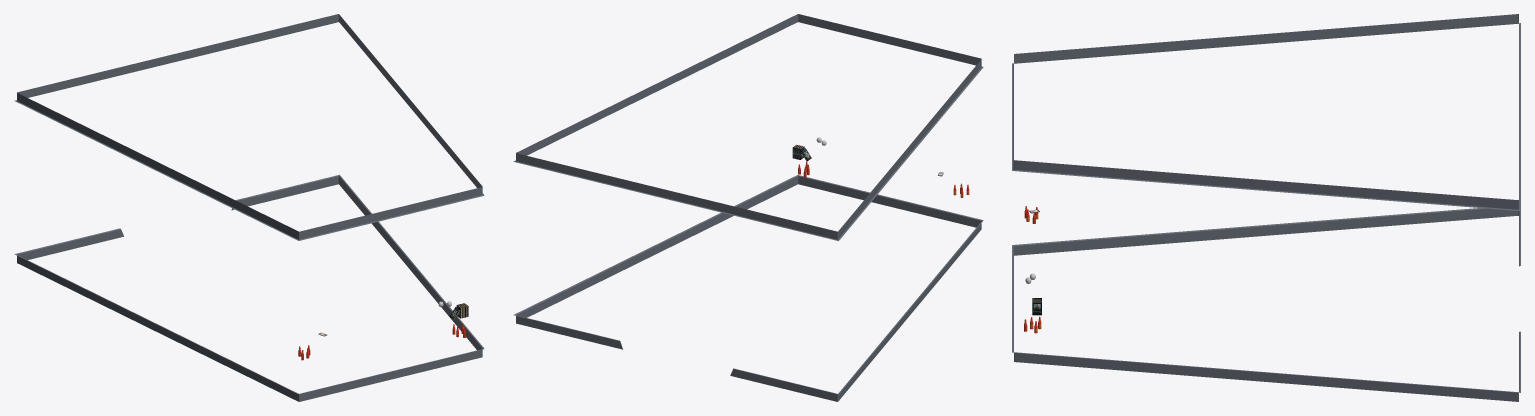
Rendered from vladikavkaz prison office update.fbx.
The picture shows the model from 3 angles, left to right: view 1: azimuth 30°, elevation 25°; view 2: azimuth 150°, elevation 25°; view 3: azimuth 270°, elevation 25°; orthographic projection. The views are drawn at different scales.
Parts seen in each view (by area): view 1: wardens office walls.001; view 2: wardens office walls.001; view 3: wardens office walls.001.
Part boxes in pixels (x1,y1,x2,y2): wardens office walls.001: (14, 14, 484, 401); wardens office walls.001: (513, 14, 983, 401); wardens office walls.001: (1012, 14, 1520, 401).
Size of the model in its own units: 700 by 350 by 800.
